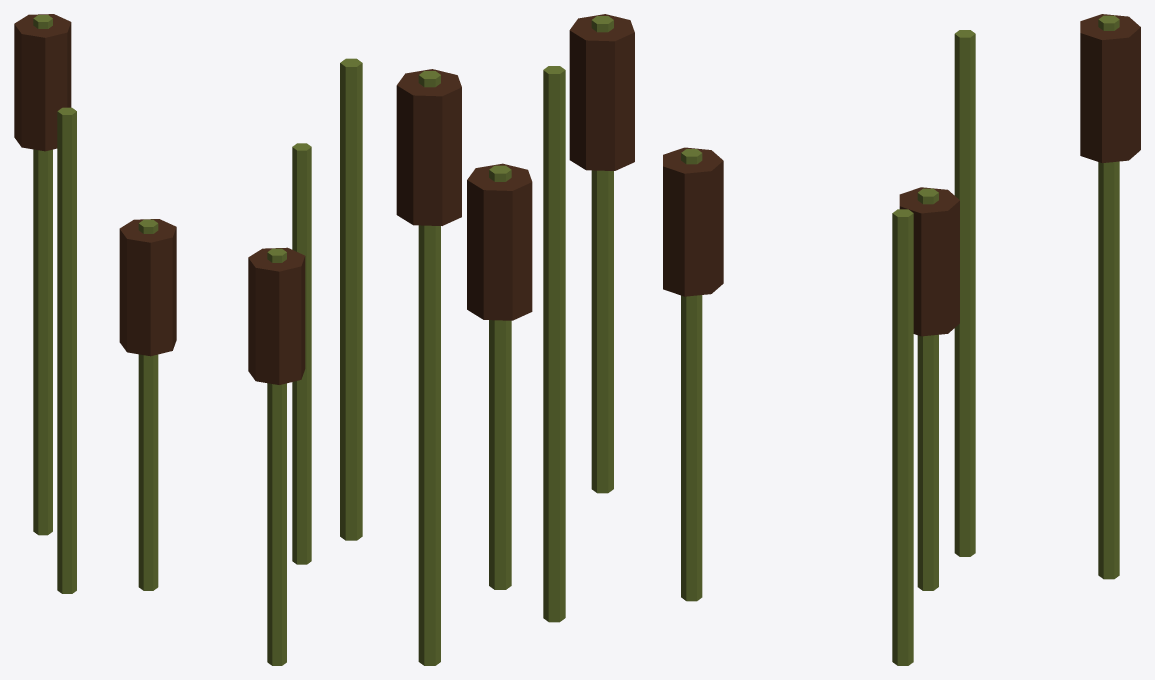
The model's file is reeds_c.glb.
The picture shows the model from 3 angles, left to right: view 1: azimuth 30°, elevation 25°; view 2: azimuth 150°, elevation 25°; view 3: azimuth 270°, elevation 25°; orthographic projection. The views are drawn at different scales.
Visible parts, largest first — view 1: Reed_2.002, Reed_3.002, Cattail_1.002, Cattail_5.002, Cattail_3.002, Reed_4.002, Reed_5.002, Reed_1.002; view 2: Reed_2.002, Reed_4.002, Reed_3.002, Cattail_1.002, Cattail_3.002, Cattail_5.002, Reed_5.002, Reed_1.002; view 3: Reed_2.002, Reed_4.002, Reed_3.002, Cattail_3.002, Cattail_5.002, Reed_5.002, Cattail_1.002, Reed_1.002.
Part boxes in pixels (<box>): Reed_2.002: <box>57,107,76,593</box>; Reed_3.002: <box>33,15,52,535</box>; Cattail_1.002: <box>119,219,176,356</box>; Cattail_5.002: <box>248,247,305,384</box>; Cattail_3.002: <box>14,14,71,151</box>; Reed_4.002: <box>292,143,311,564</box>; Reed_5.002: <box>267,248,286,665</box>; Reed_1.002: <box>138,219,158,590</box>; Reed_2.002: <box>543,66,565,622</box>; Reed_4.002: <box>340,58,362,540</box>; Reed_3.002: <box>418,71,440,665</box>; Cattail_1.002: <box>467,163,532,320</box>; Cattail_3.002: <box>396,69,461,225</box>; Cattail_5.002: <box>569,14,634,170</box>; Reed_5.002: <box>591,16,613,493</box>; Reed_1.002: <box>489,165,511,589</box>; Reed_2.002: <box>954,30,975,556</box>; Reed_4.002: <box>892,209,913,665</box>; Reed_3.002: <box>1098,15,1119,579</box>; Cattail_3.002: <box>1080,14,1140,163</box>; Cattail_5.002: <box>663,147,723,296</box>; Reed_5.002: <box>681,149,702,601</box>; Cattail_1.002: <box>899,187,959,336</box>; Reed_1.002: <box>917,188,938,590</box>.
Bounding box in the file's own units: 0.6515 × 1.45 × 1.13.
